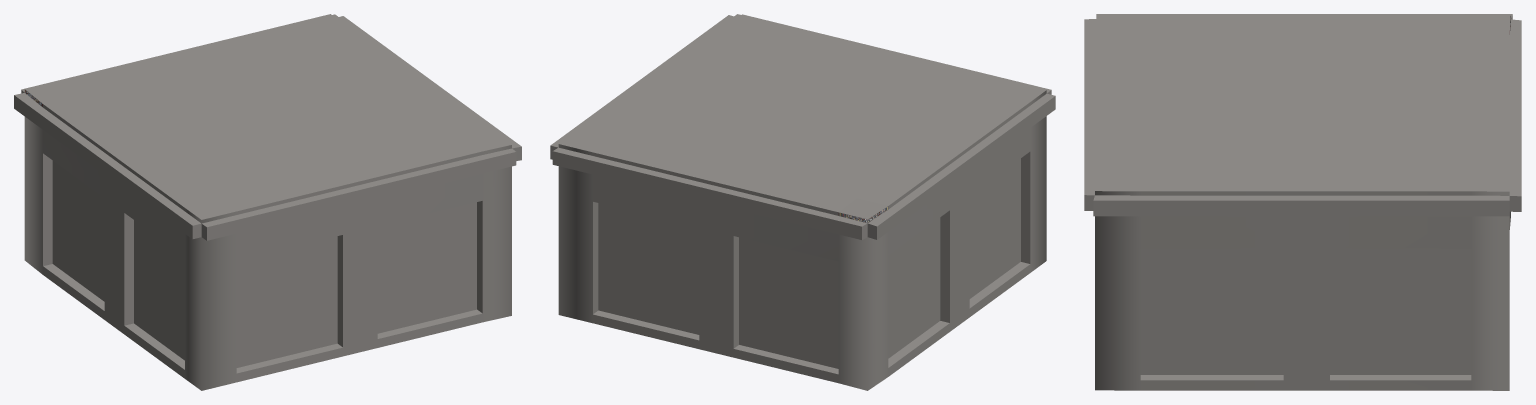
The model's file is shop.glb.
3 views of the same model, side by side, from view 1: azimuth 30°, elevation 25°; view 2: azimuth 150°, elevation 25°; view 3: azimuth 270°, elevation 25° (orthographic). The views are drawn at different scales.
Visible parts, largest first — view 1: Object_2; view 2: Object_2; view 3: Object_2.
Part boxes in pixels (x1,y1,x2,y2): Object_2: (14,14,521,390); Object_2: (550,14,1055,390); Object_2: (1084,14,1521,390).
Size of the model in its own units: 5.16e+07 by 2.58e+07 by 5.11e+07.
Materials: 1 (1 with a texture image).
